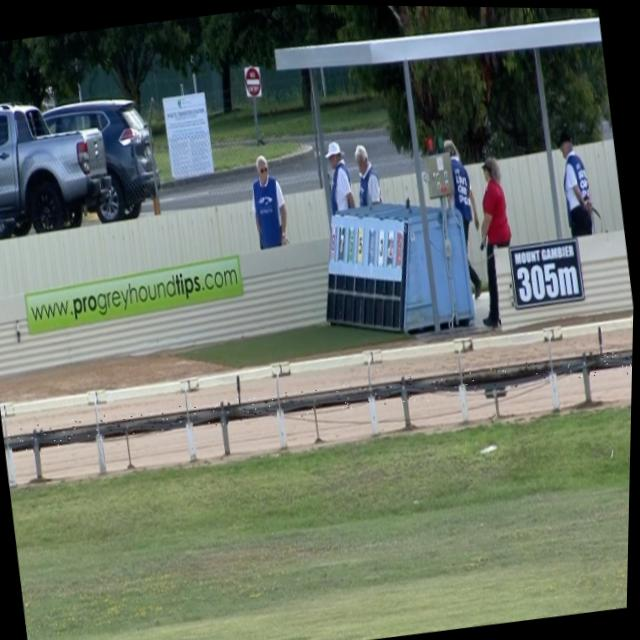rail: (6, 347, 634, 454)
